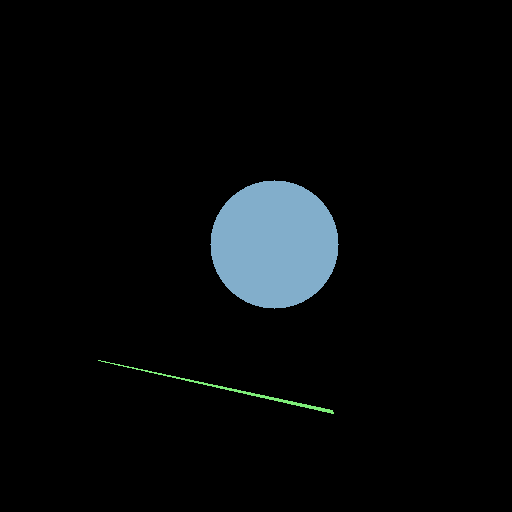circle: (210, 180, 338, 308)
